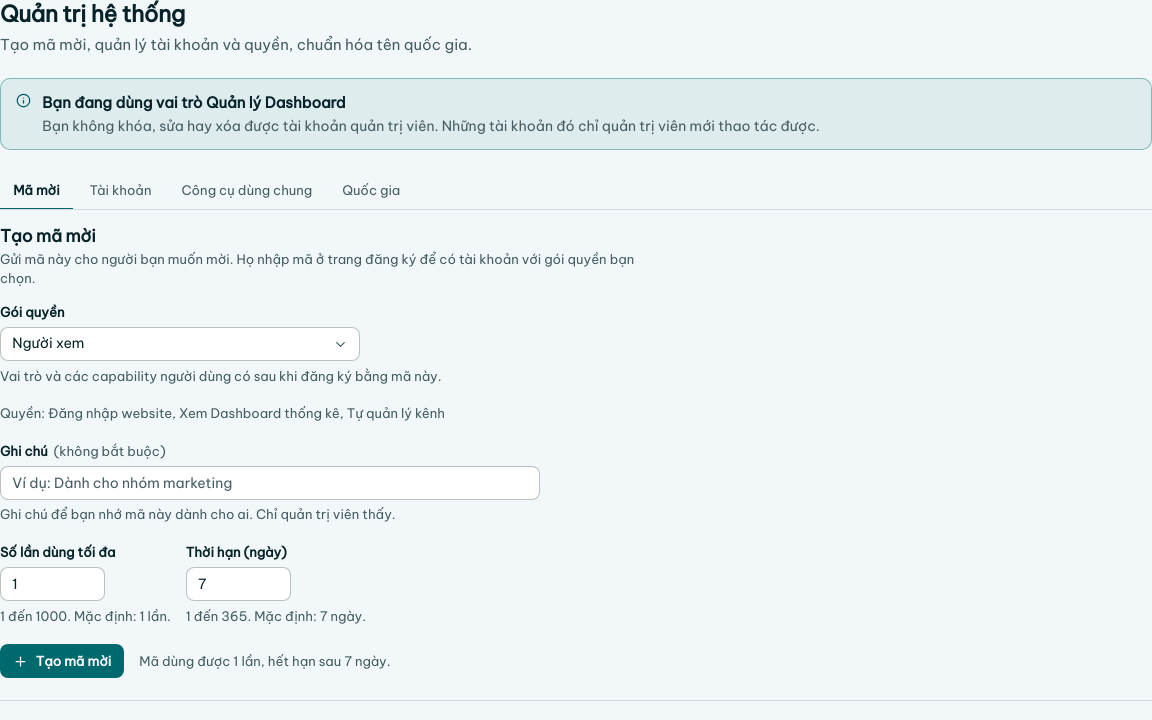
Test case: AdminPage — quản lý dashboard không thao tác được quản trị viên › server vẫn trả 403 ADMIN_TARGET_FORBIDDEN => hiện lời dễ hiểu, không hiện mã lỗi
The image size is (1152, 720).
Click the tab "Tài khoản": (120, 191) x1=76 y1=172 x2=164 y2=210
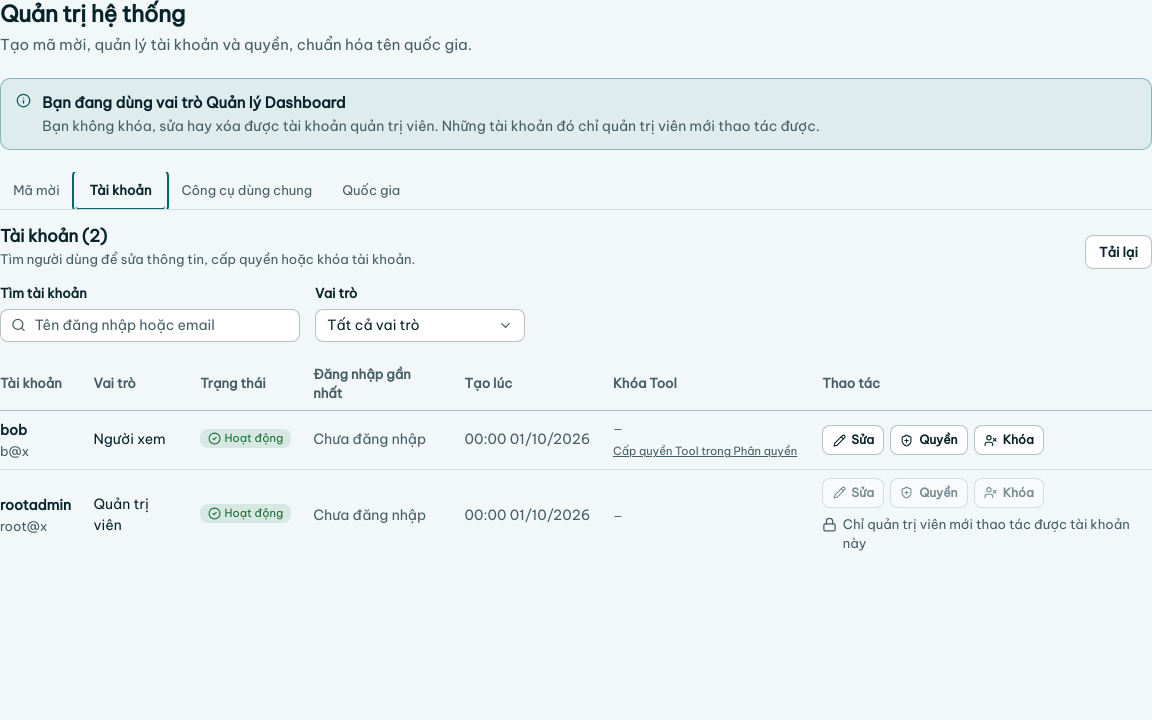
Result: the text "bob" is shown at x1=0 y1=421 x2=27 y2=439
Click the button with aria-label "Khóa bob": (1009, 440) x1=974 y1=425 x2=1044 y2=455
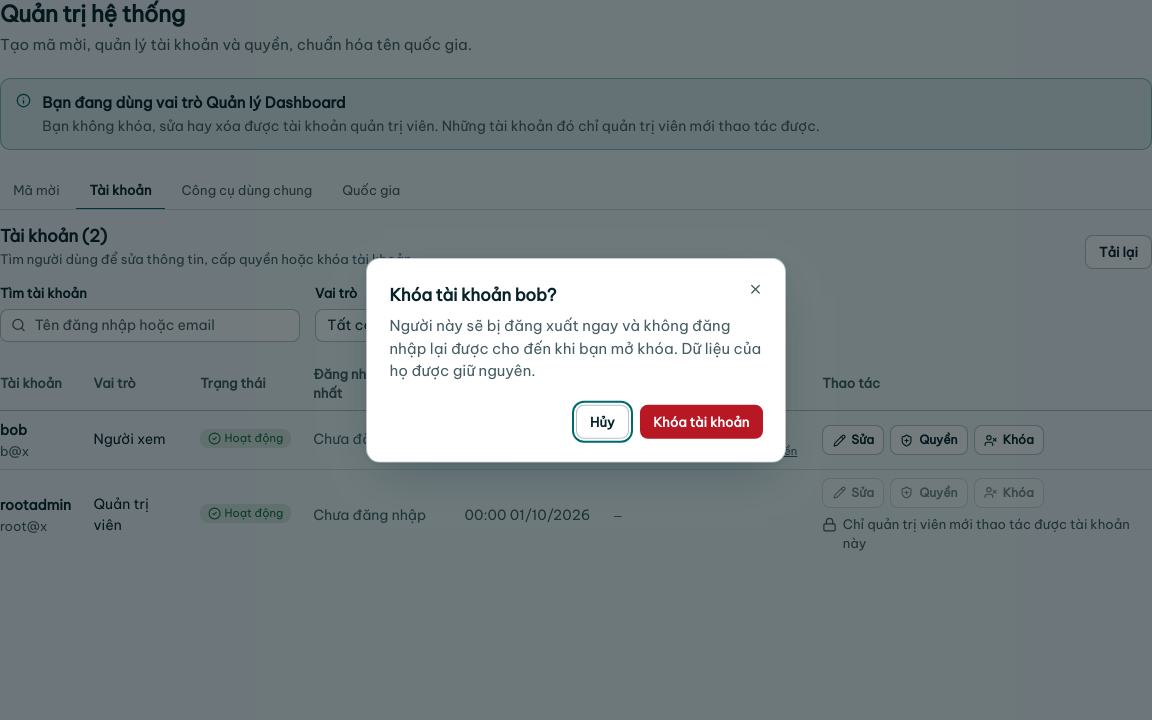
Click the button "Khóa tài khoản": (701, 422) x1=640 y1=405 x2=762 y2=439
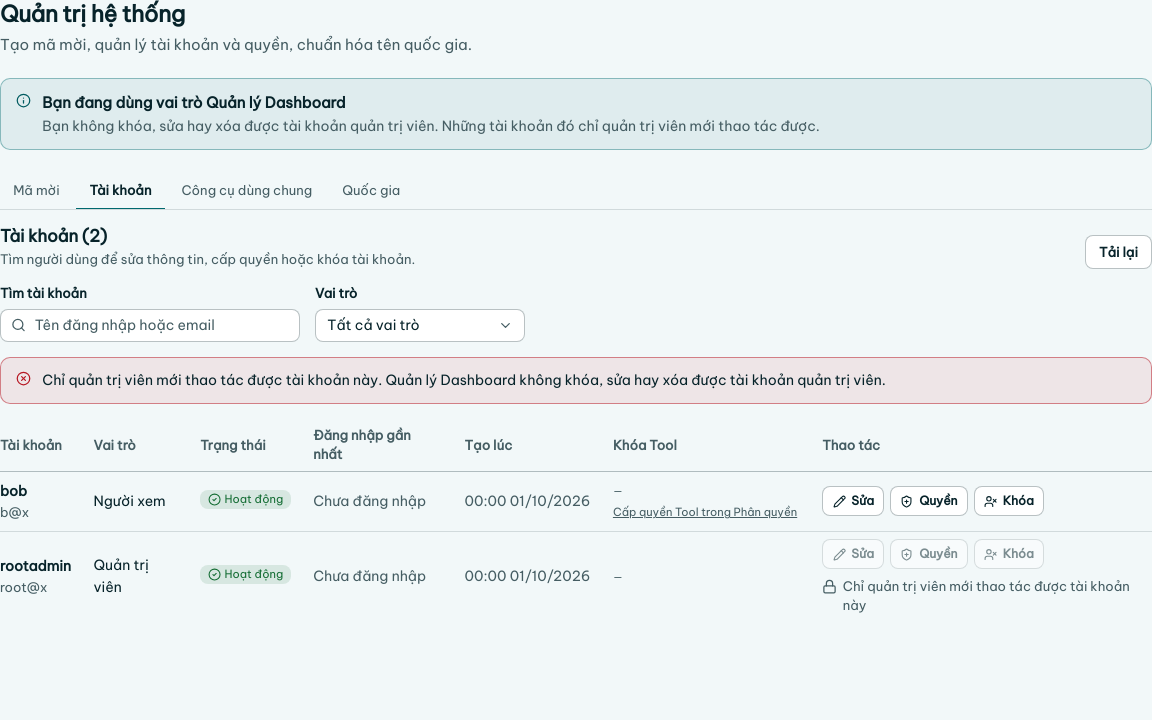
Expected: the 2nd message does not show "ADMIN_TARGET_FORBIDDEN", x1=0 y1=357 x2=1151 y2=404
Result: the 2nd message shows "Chỉ quản trị viên mới thao tác được tài khoản này" at x1=42 y1=371 x2=886 y2=389
